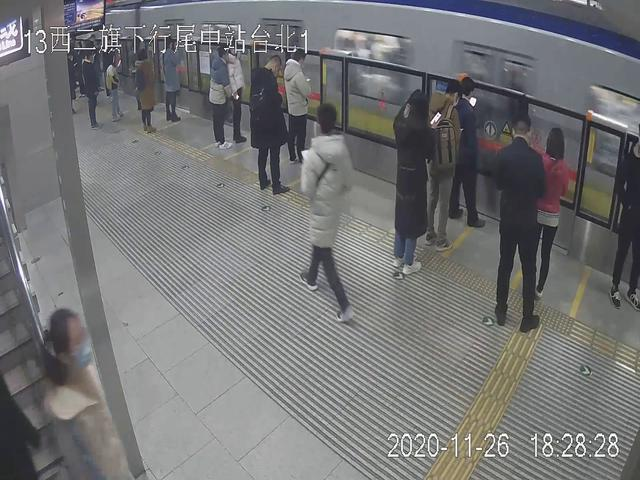person: (38, 306, 144, 480), (297, 103, 355, 321), (493, 105, 542, 341), (526, 124, 569, 297), (392, 88, 430, 277), (443, 72, 485, 229), (425, 79, 458, 254), (251, 54, 289, 195), (282, 45, 312, 163), (204, 45, 232, 151), (134, 51, 159, 135), (163, 39, 184, 129)
